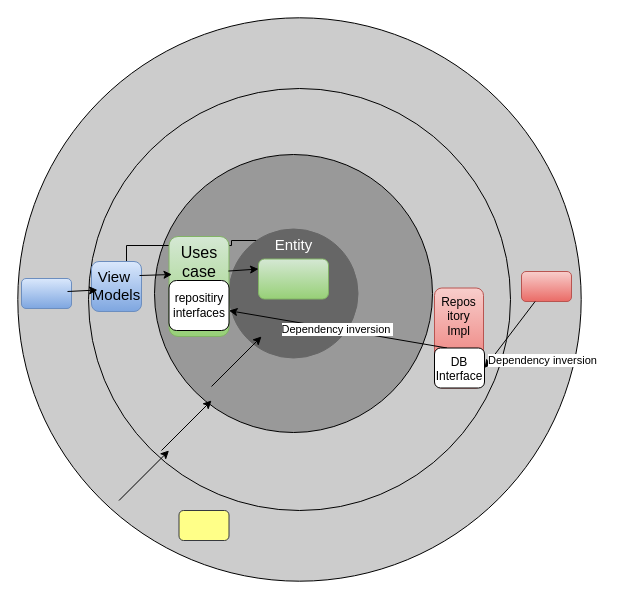
Some shapes in this 617 by 599 pixel diagram are drawn without their labels. The shapes that lost their labels are listed below. From the top down, each one's centre as x and y in pixels, then its label:
point (46, 293): UI
point (293, 278): Note data class
point (546, 286): DB
point (203, 525): DI
